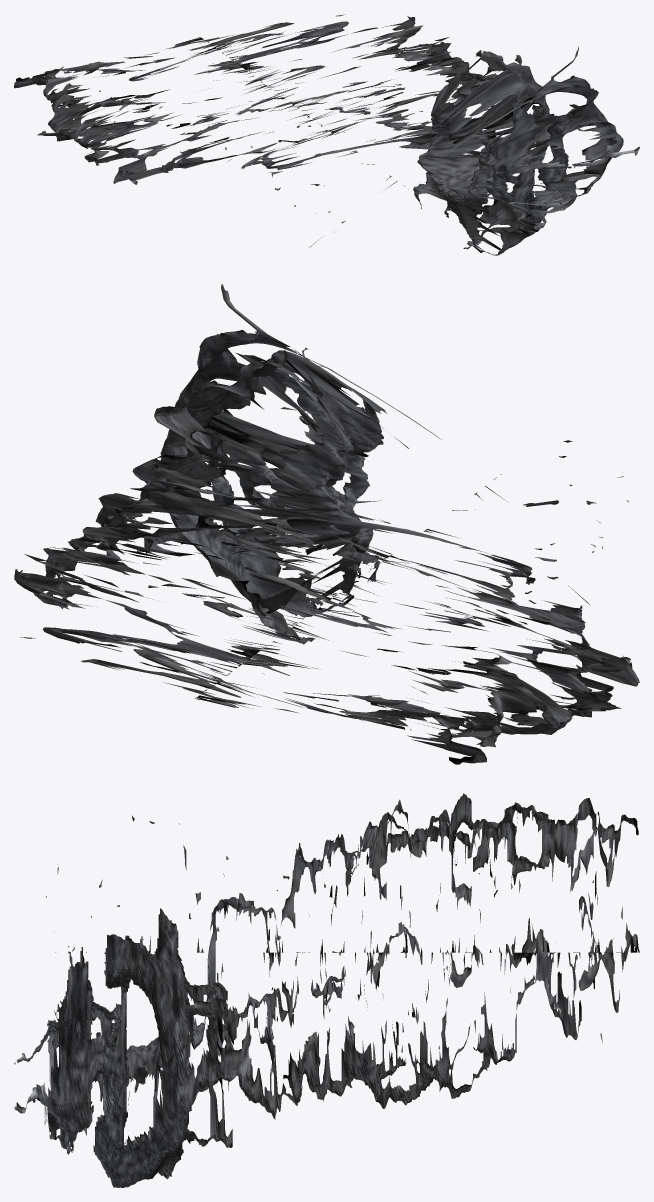
3 views of the same model, one above another, from view 1: azimuth 30°, elevation 25°; view 2: azimuth 150°, elevation 25°; view 3: azimuth 270°, elevation 25° (orthographic). The views are drawn at different scales.
Parts seen in each view (by area): view 1: geometry_0; view 2: geometry_0; view 3: geometry_0.
Boxes of the visible parts, x1,y1,x2,y2 form: geometry_0: (14, 14, 639, 255); geometry_0: (14, 284, 639, 764); geometry_0: (14, 793, 639, 1187).
Bounding box in the file's own units: 1.61 × 0.6983 × 1.39.
Materials: 1 (1 with a texture image).
